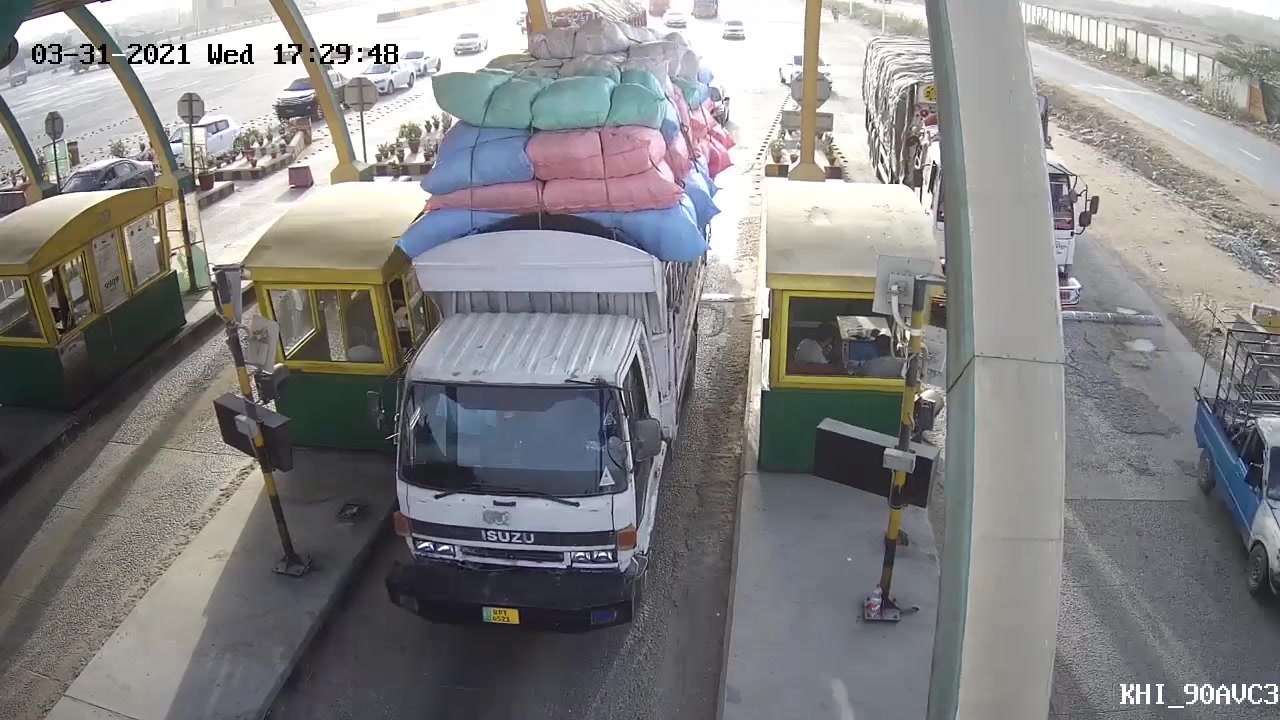F3: (365, 4, 732, 638)
